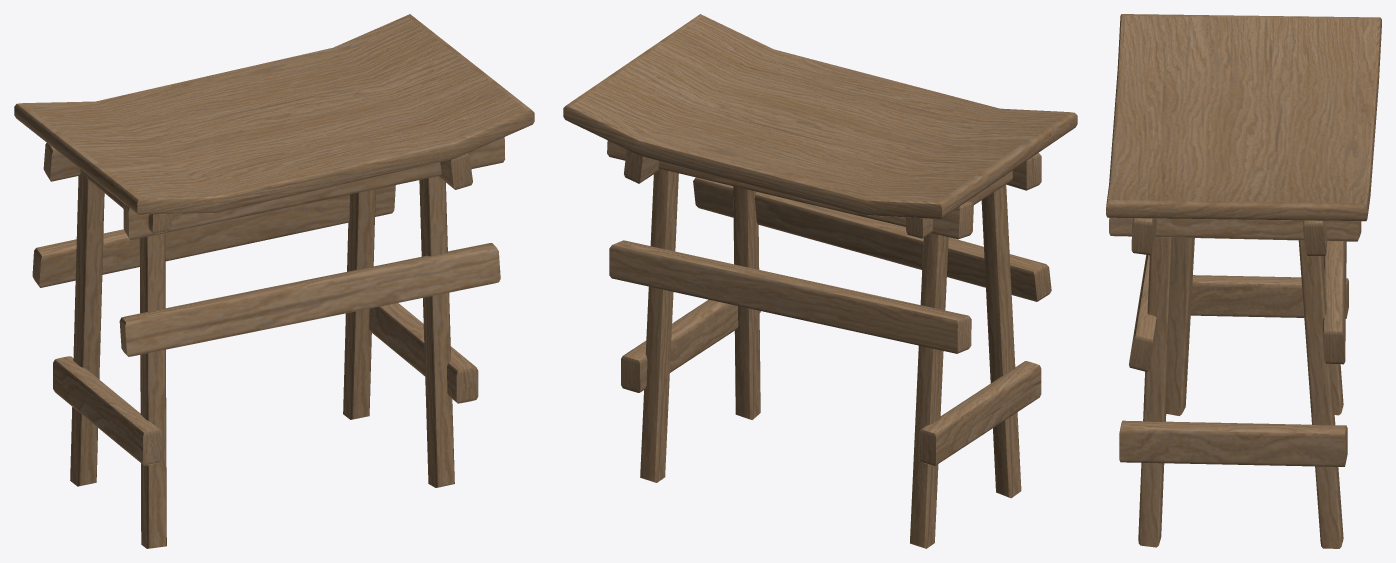
File: Stool2.fbx
3 views of the same model, side by side, from view 1: azimuth 30°, elevation 25°; view 2: azimuth 150°, elevation 25°; view 3: azimuth 270°, elevation 25° (orthographic).
Parts seen in each view (by area): view 1: polySurface116; view 2: polySurface116; view 3: polySurface116.
Part boxes in pixels (x1,y1,x2,y2): polySurface116: (14,14,534,548); polySurface116: (563,14,1077,548); polySurface116: (1106,14,1381,548).
Size of the model in its own units: 14.72 by 13.33 by 8.8.
1 material, 1 textured.
